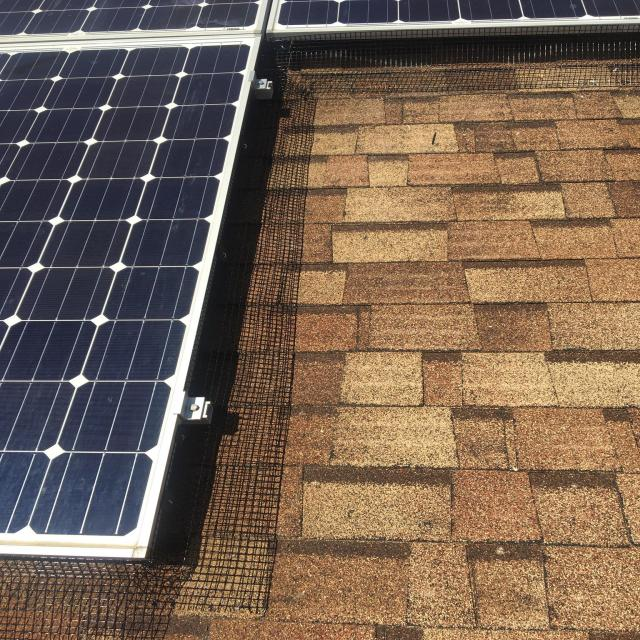clean-solar-panel: (0, 45, 250, 554)
